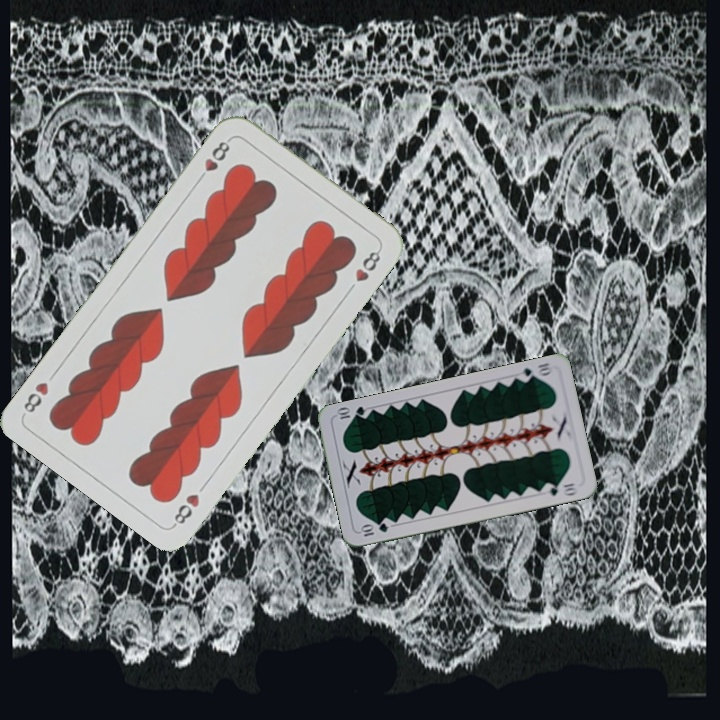G10: (514, 359, 555, 385), (357, 519, 391, 539)
H8: (193, 134, 234, 185), (169, 489, 202, 529)
